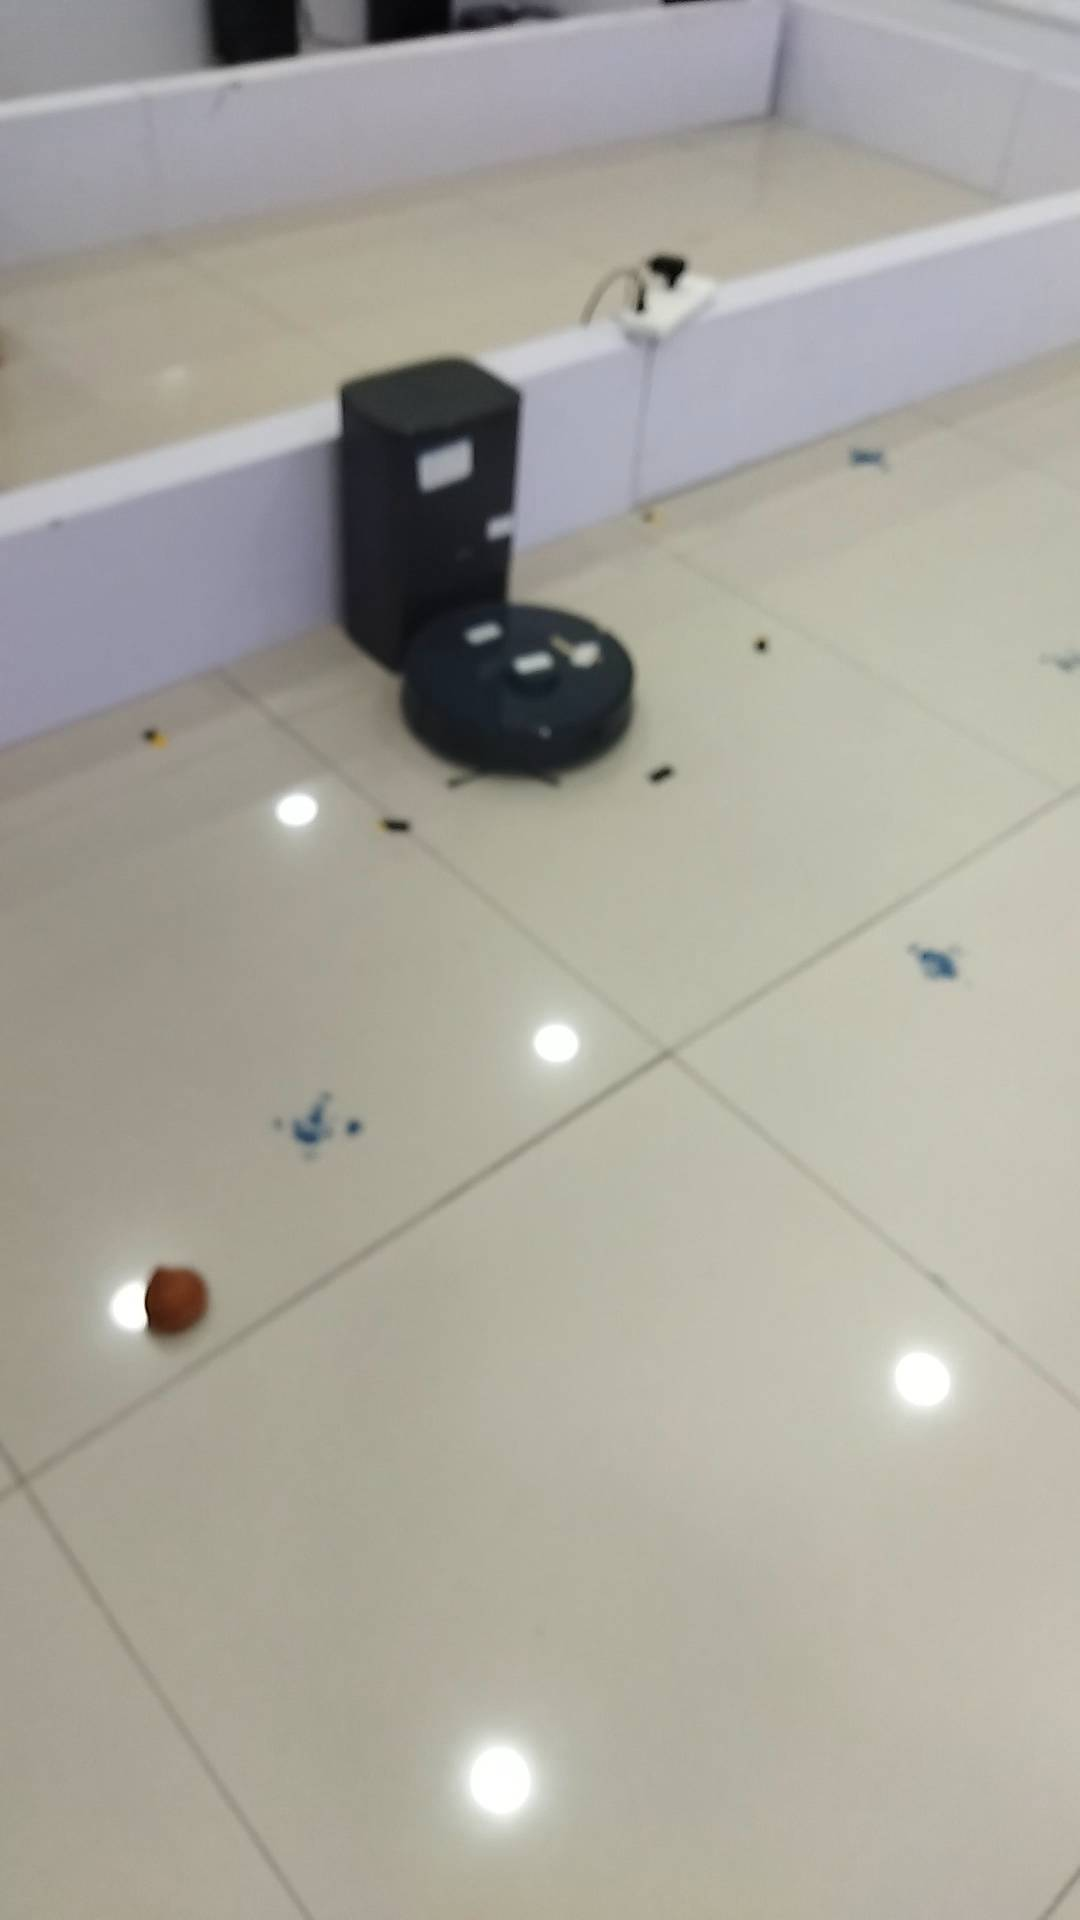dust collecting barrel: (338, 355, 524, 673)
